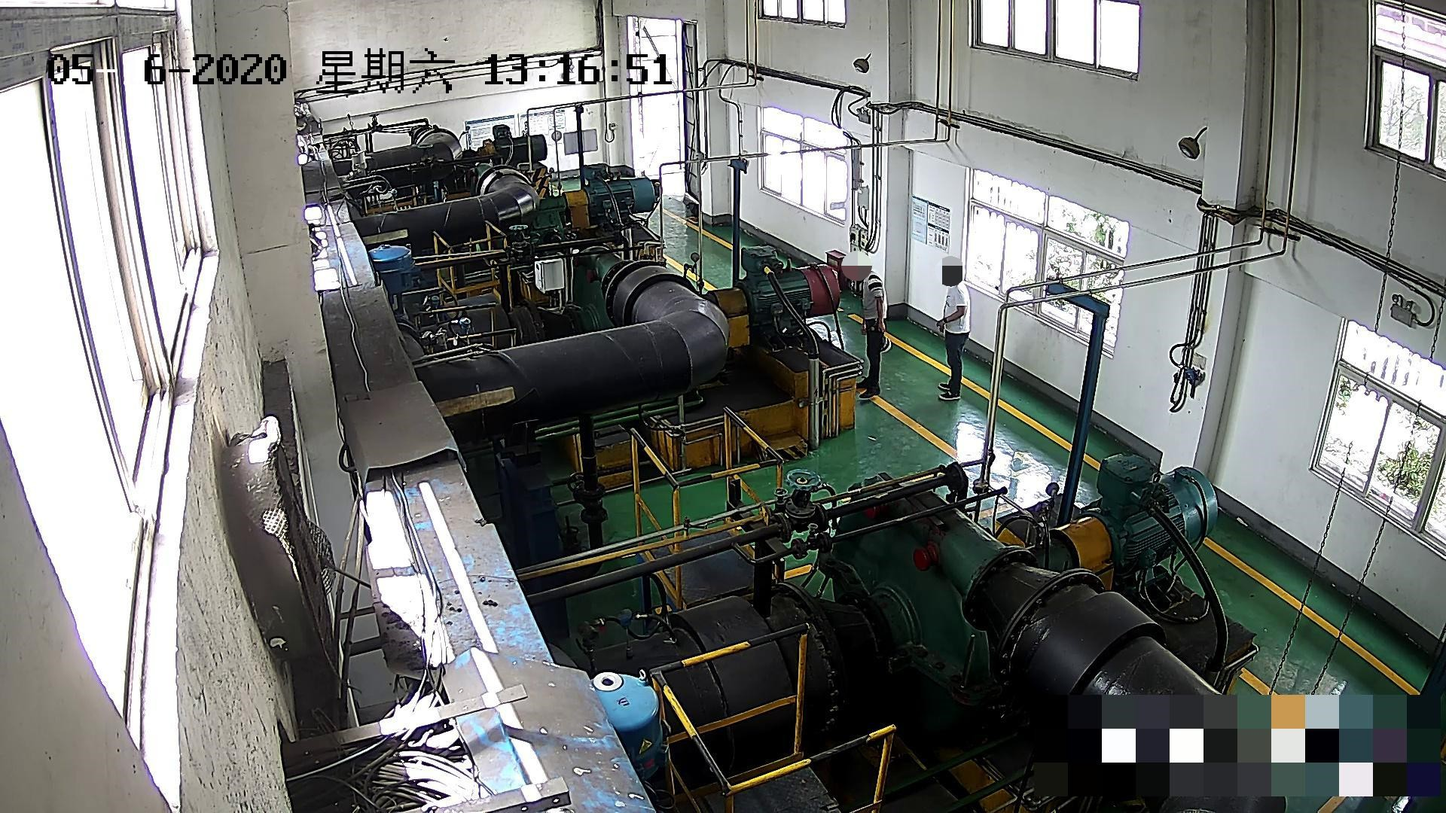hat: (939, 257, 960, 285)
head: (850, 253, 867, 277)
person: (844, 251, 892, 400), (935, 256, 974, 408)
